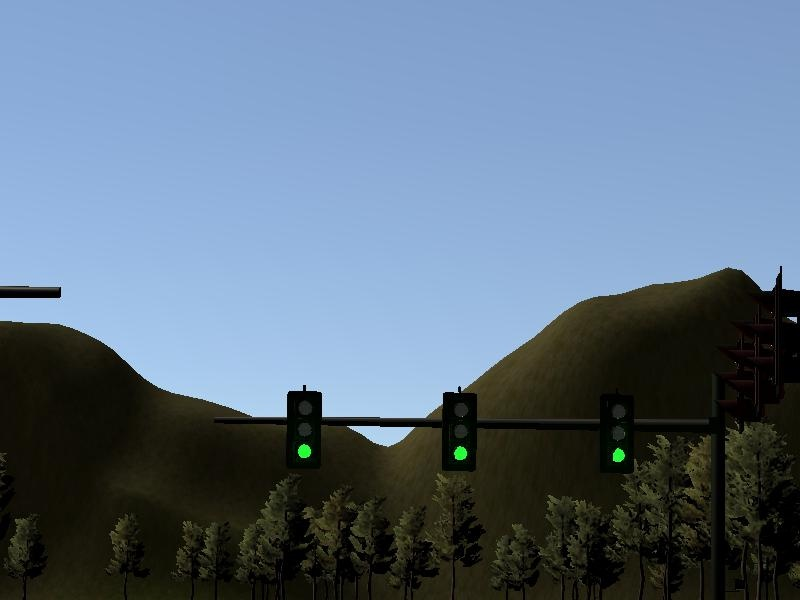GREEN: (441, 392, 478, 471), (599, 395, 636, 473), (287, 391, 323, 467)
